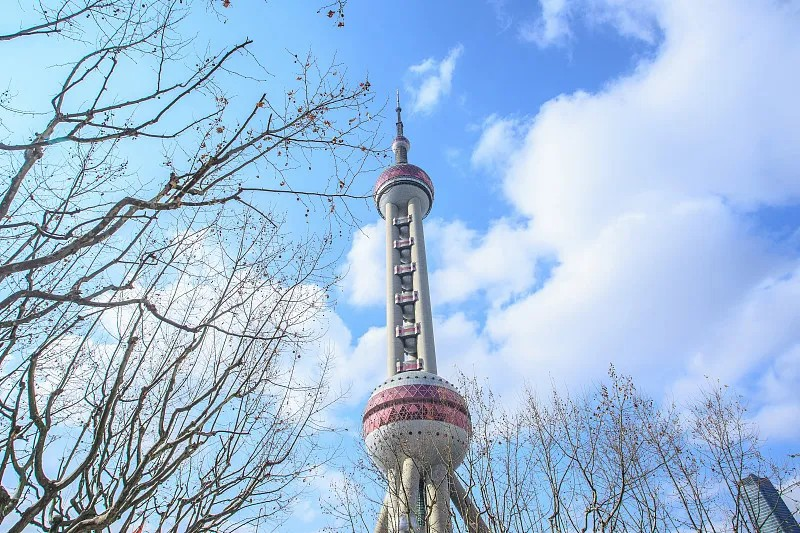Oriental: (363, 89, 490, 533)
